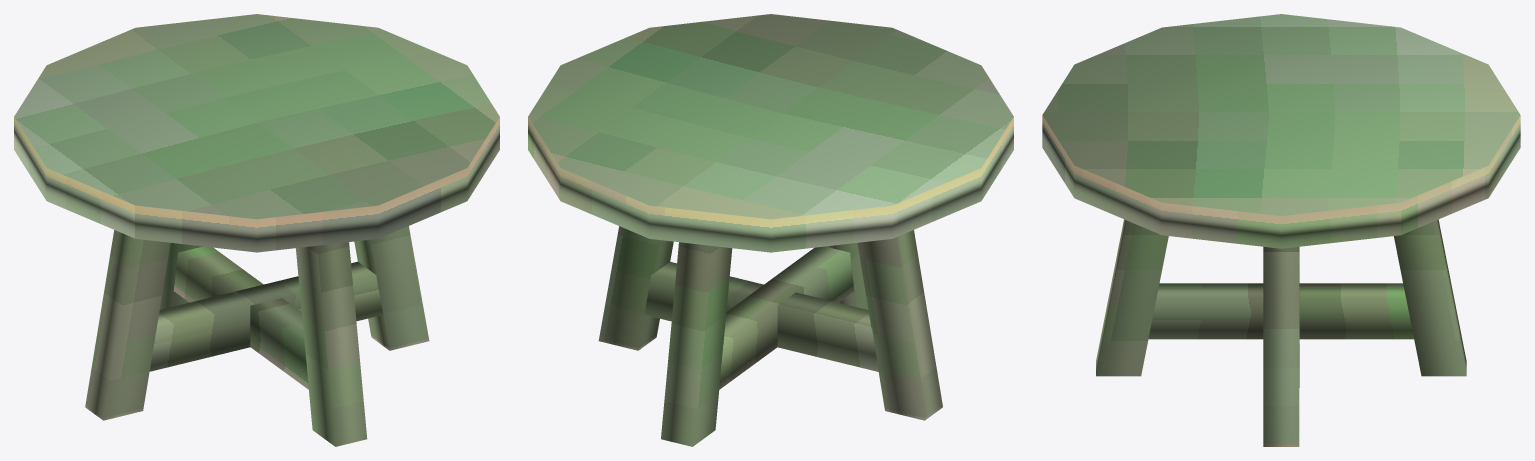
Rendered from objects_un_plan_chair01_green.gltf.
The picture shows the model from 3 angles, left to right: view 1: azimuth 30°, elevation 25°; view 2: azimuth 150°, elevation 25°; view 3: azimuth 270°, elevation 25°; orthographic projection.
Parts seen in each view (by area): view 1: objects_un_plan_chair01_green_mesh_shape:objects_un_chair01; view 2: objects_un_plan_chair01_green_mesh_shape:objects_un_chair01; view 3: objects_un_plan_chair01_green_mesh_shape:objects_un_chair01.
Boxes of the visible parts, x1,y1,x2,y2 form: objects_un_plan_chair01_green_mesh_shape:objects_un_chair01: [14, 14, 499, 446]; objects_un_plan_chair01_green_mesh_shape:objects_un_chair01: [528, 14, 1013, 446]; objects_un_plan_chair01_green_mesh_shape:objects_un_chair01: [1042, 14, 1520, 446].
Size of the model in its own units: 0.53 by 0.31 by 0.53.
Materials: 1 (1 with a texture image).
